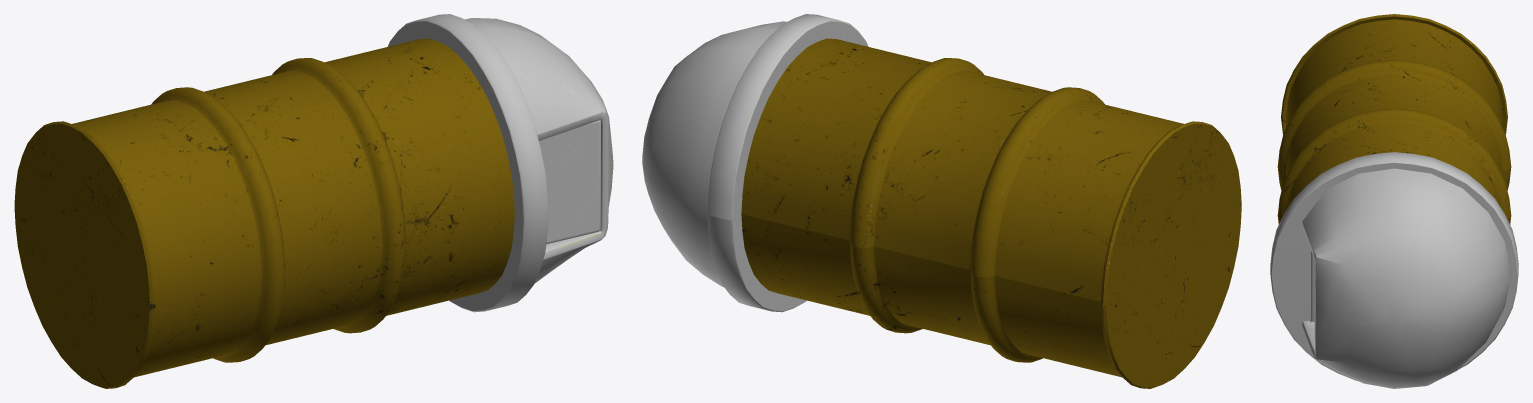
File: cP_GarbageBin03.dae
3 renders of one model, left to right at view 1: azimuth 30°, elevation 25°; view 2: azimuth 150°, elevation 25°; view 3: azimuth 270°, elevation 25°, orthographic. The views are drawn at different scales.
Visible parts, largest first — view 1: cP_GarbageBin03.001; view 2: cP_GarbageBin03.001; view 3: cP_GarbageBin03.001.
Part boxes in pixels (bbox=[...]): cP_GarbageBin03.001: bbox=[14, 14, 613, 388]; cP_GarbageBin03.001: bbox=[642, 14, 1241, 388]; cP_GarbageBin03.001: bbox=[1270, 14, 1518, 388].
Bounding box in the file's own units: 1.49 × 0.7559 × 0.7559.
